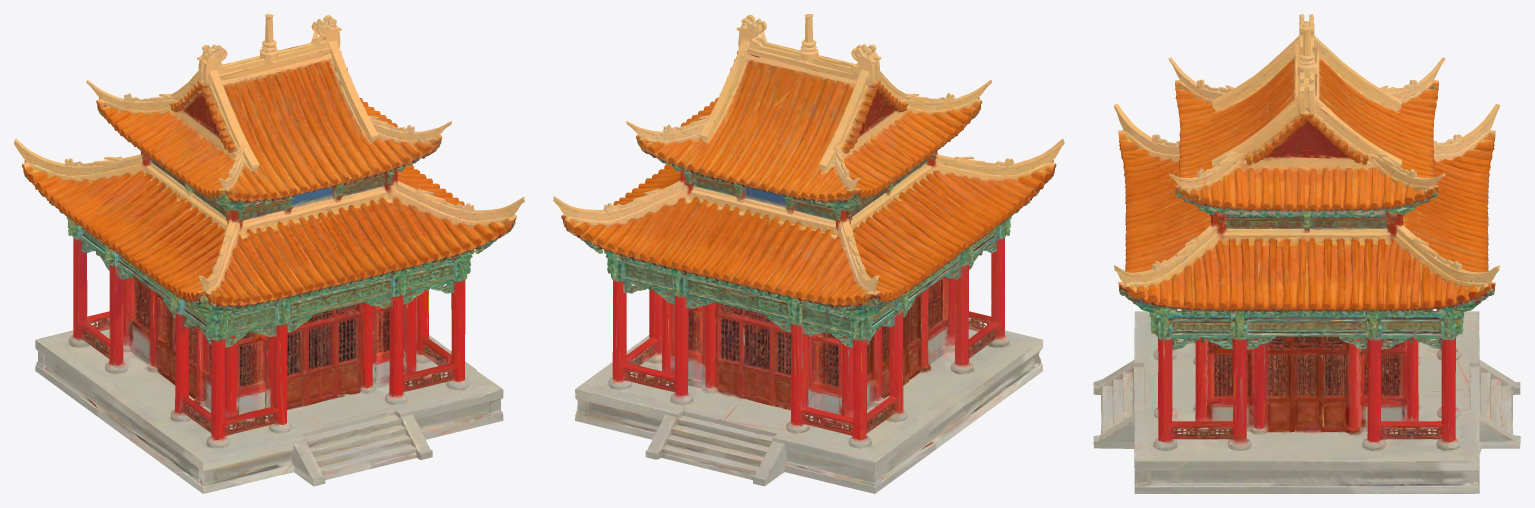
Rendered from lib_pavilion2.hd.glb.
The picture shows the model from 3 angles, left to right: view 1: azimuth 30°, elevation 25°; view 2: azimuth 150°, elevation 25°; view 3: azimuth 270°, elevation 25°; orthographic projection. The views are drawn at different scales.
Visible parts, largest first — view 1: output_unwrapped; view 2: output_unwrapped; view 3: output_unwrapped.
Part boxes in pixels (x1=…): output_unwrapped: x1=14, y1=14, x2=524, y2=493; output_unwrapped: x1=553, y1=14, x2=1064, y2=493; output_unwrapped: x1=1093, y1=14, x2=1520, y2=493.
Bounding box in the file's own units: 1.79 × 2 × 1.98.
Materials: 1 (1 with a texture image).
